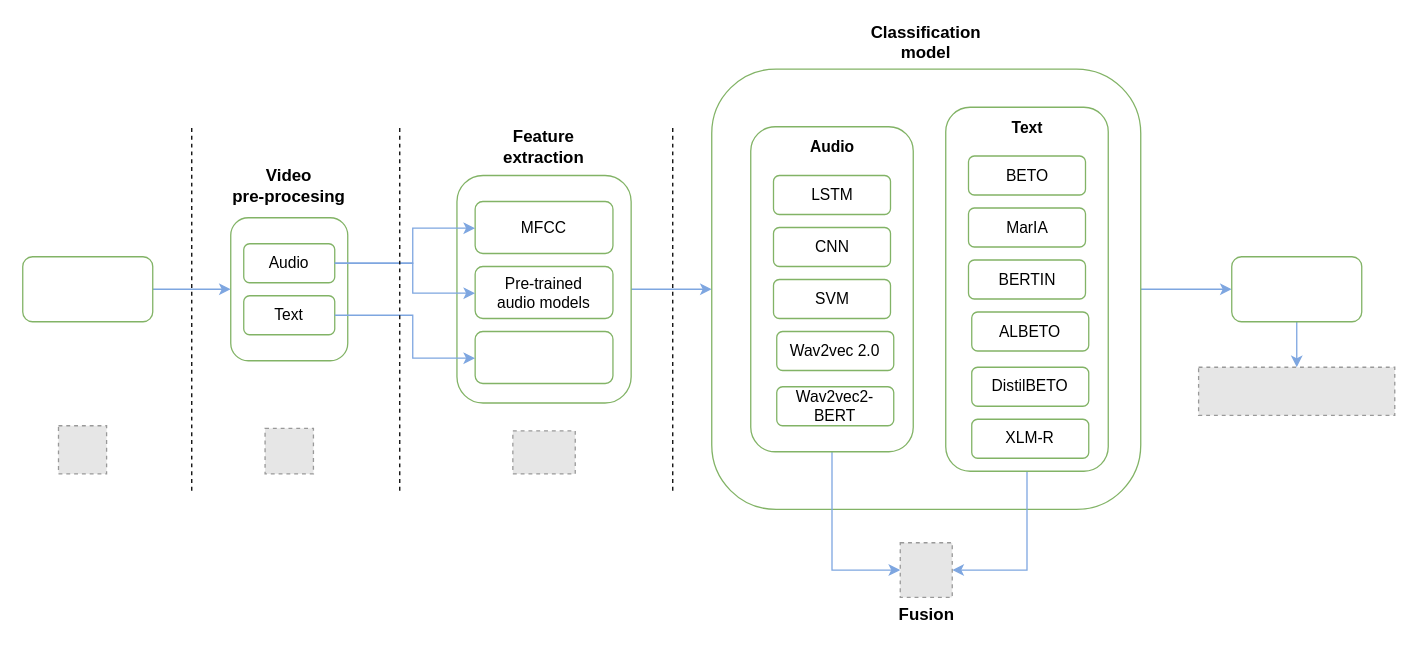
The diagram is 1418 pixels wide and 657 high, and some of its shapes have lost their labels. Grey dashed boxes stand in for pictures. The centre of each missing label's shape, as x and y in pixels:
"Classifier" belongs at (1296,288).
"Dataset compilation" belongs at (87,288).
"Pre-trained language models" belongs at (543,357).
